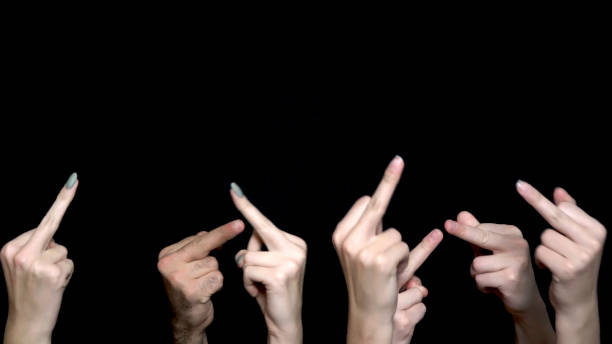insulting_gesture: (513, 175, 606, 344), (440, 209, 554, 344), (0, 166, 86, 344), (329, 150, 406, 344), (230, 177, 307, 344), (155, 216, 250, 344), (388, 227, 444, 344)
